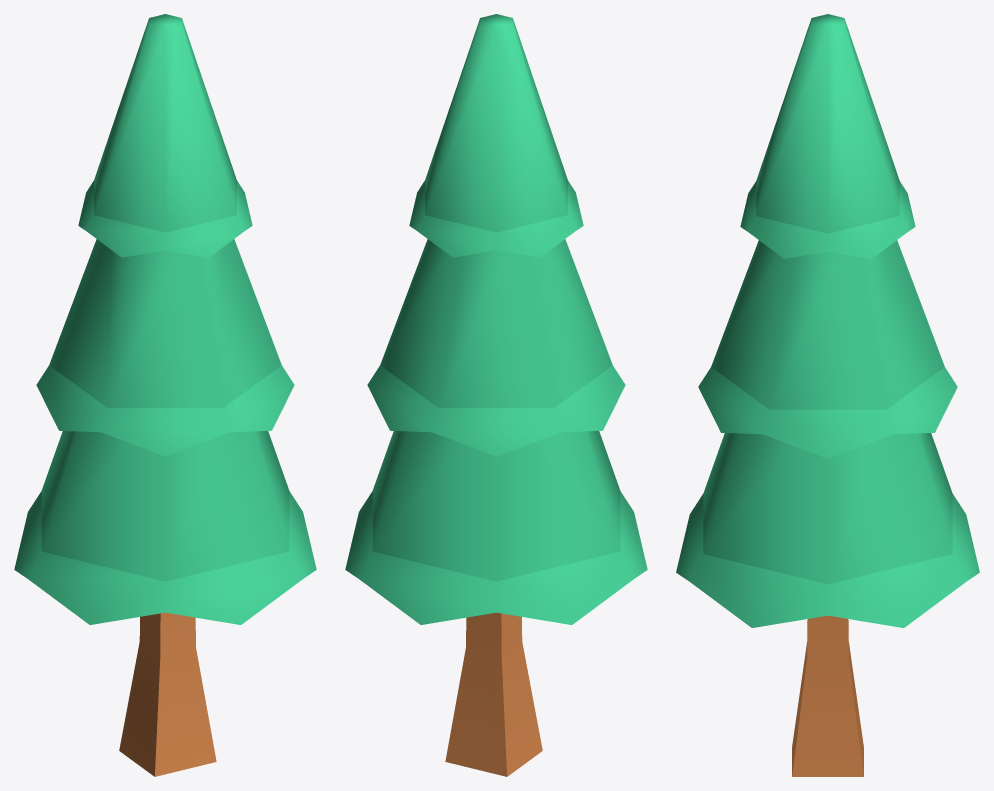
Rendered from tree.fbx.
3 views of the same model, side by side, from view 1: azimuth 30°, elevation 25°; view 2: azimuth 150°, elevation 25°; view 3: azimuth 270°, elevation 25° (orthographic).
Visible parts, largest first — view 1: tree; view 2: tree; view 3: tree.
Boxes of the visible parts, x1=… form: tree: x1=14, y1=14, x2=316, y2=776; tree: x1=345, y1=14, x2=647, y2=776; tree: x1=676, y1=14, x2=979, y2=776.
Bounding box in the file's own units: 5.53 × 14.11 × 5.26.
